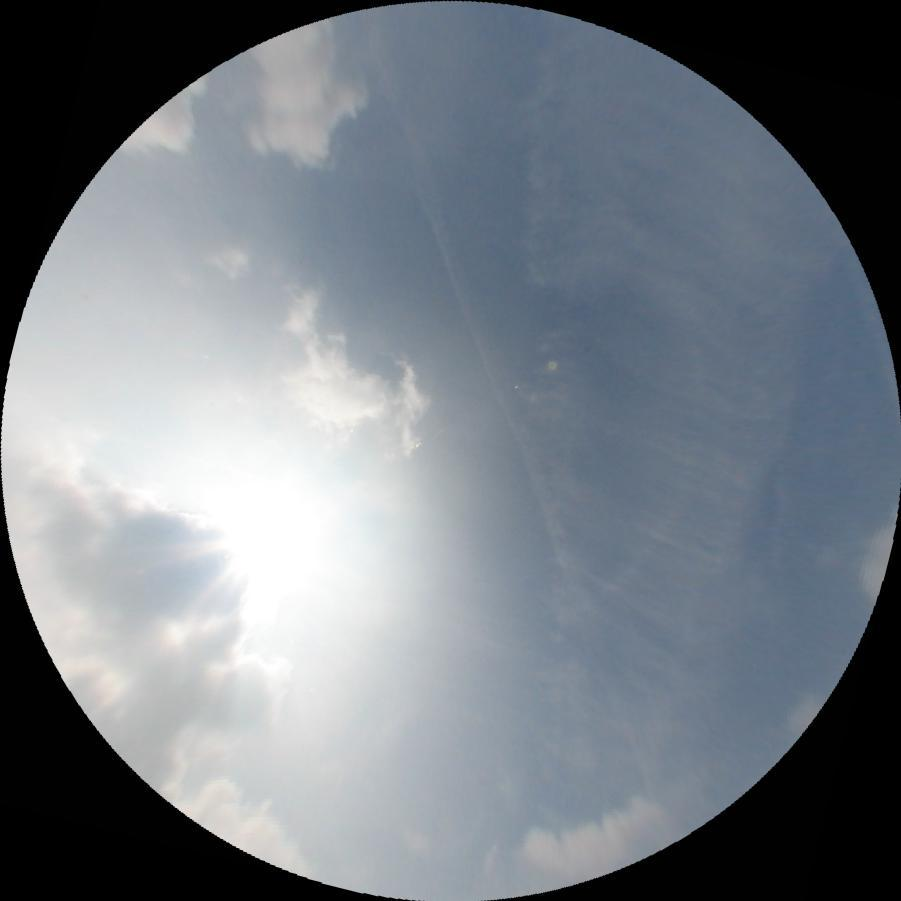contrail veryold: (388, 121, 590, 596)
sun: (168, 451, 352, 656)
